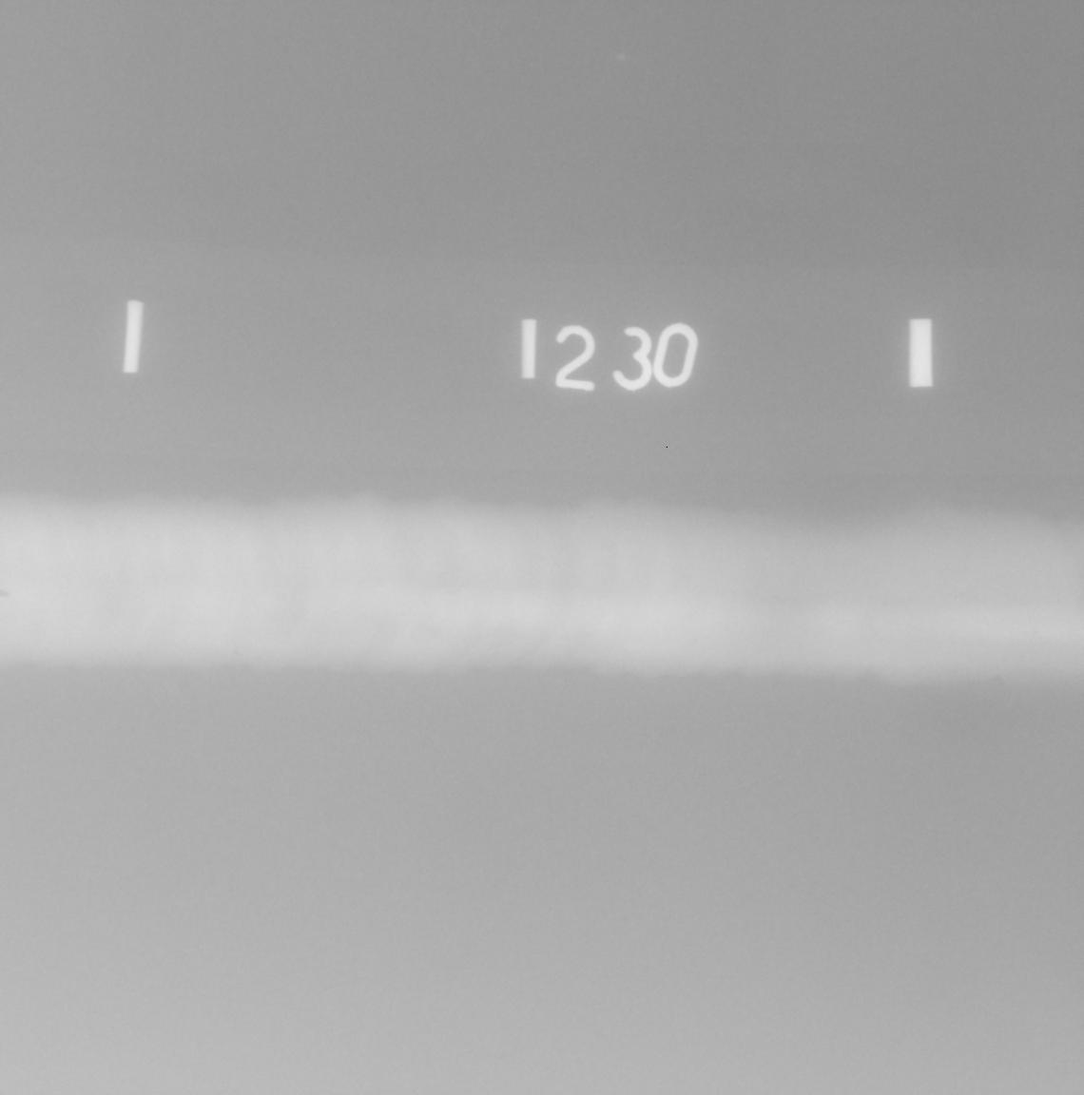Pore/Porosity: (1, 590, 7, 597), (234, 651, 241, 656)
